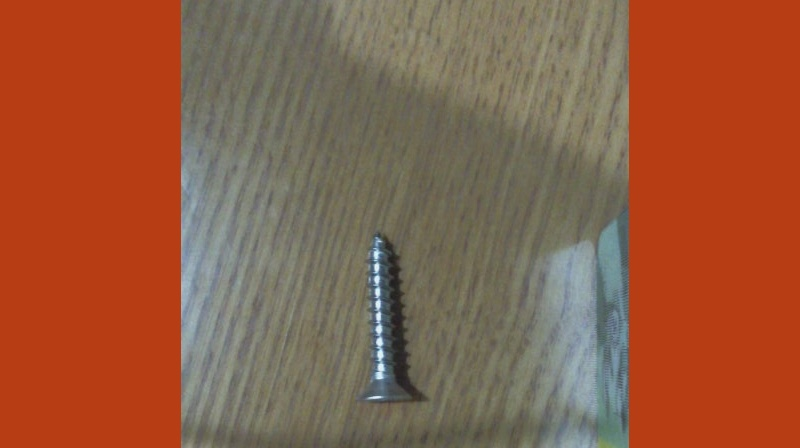S001: (353, 228, 420, 405)
